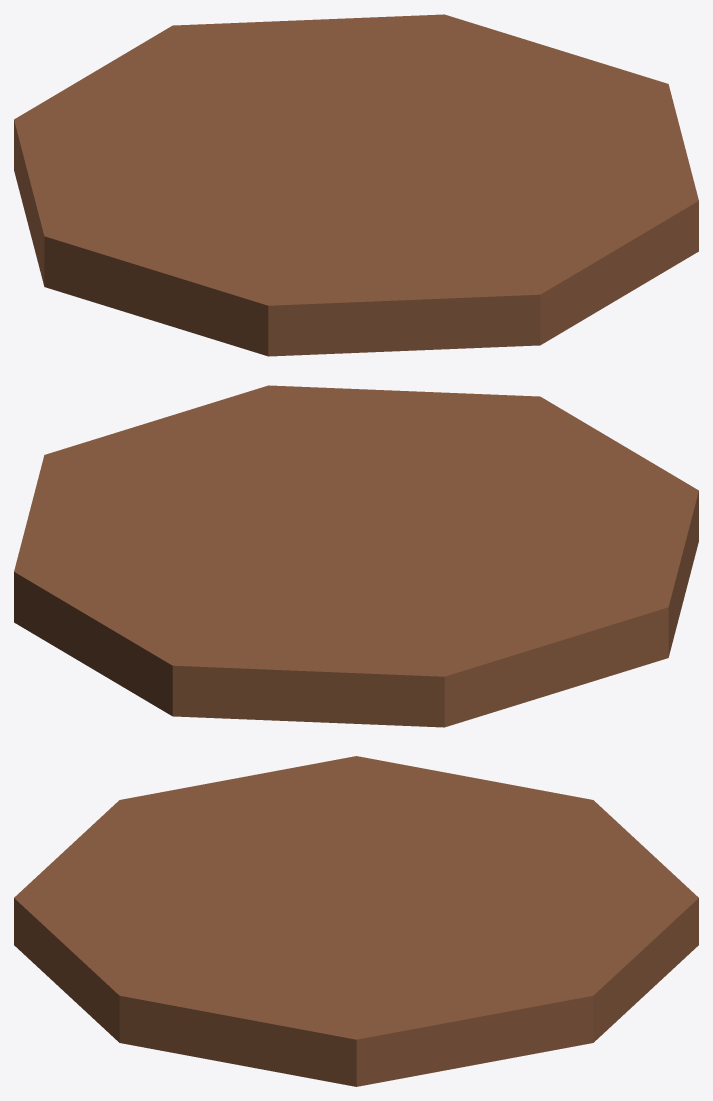
The model's file is barrelLid.fbx.
The picture shows the model from 3 angles, top to bottom: view 1: azimuth 30°, elevation 25°; view 2: azimuth 150°, elevation 25°; view 3: azimuth 270°, elevation 25°; orthographic projection. The views are drawn at different scales.
Parts seen in each view (by area): view 1: barrelLid; view 2: barrelLid; view 3: barrelLid.
Boxes of the visible parts, x1=… form: barrelLid: x1=14, y1=14, x2=698, y2=356; barrelLid: x1=14, y1=385, x2=698, y2=727; barrelLid: x1=14, y1=756, x2=698, y2=1086.
Bounding box in the file's own units: 49.56 × 3.85 × 50.57.
Materials: 1 (1 with a texture image).
